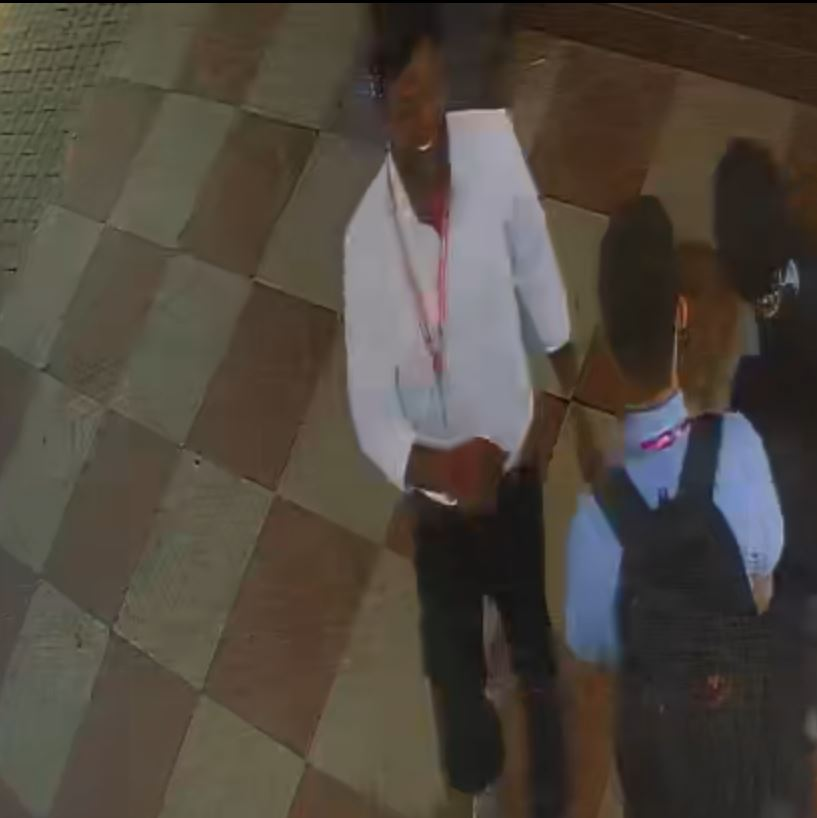not intruder: (336, 17, 601, 805)
